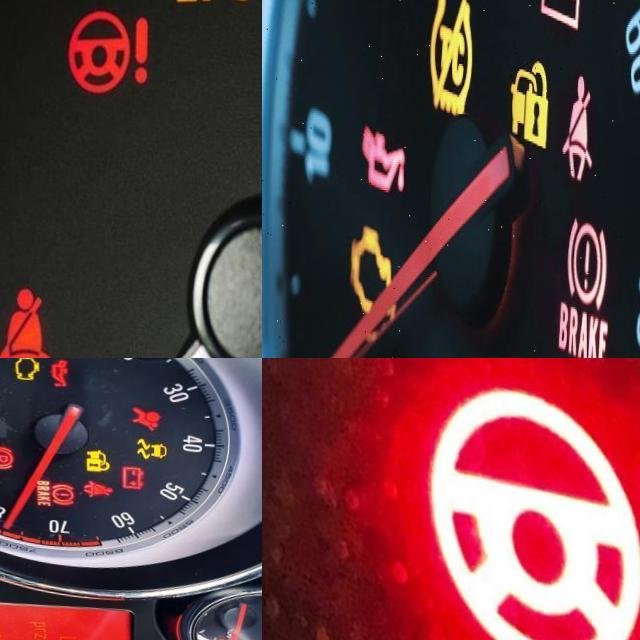Electronic Power Steering: (429, 374, 640, 640), (70, 3, 149, 92)
Seat Belt: (0, 280, 52, 358), (563, 65, 593, 173), (81, 473, 114, 494)
